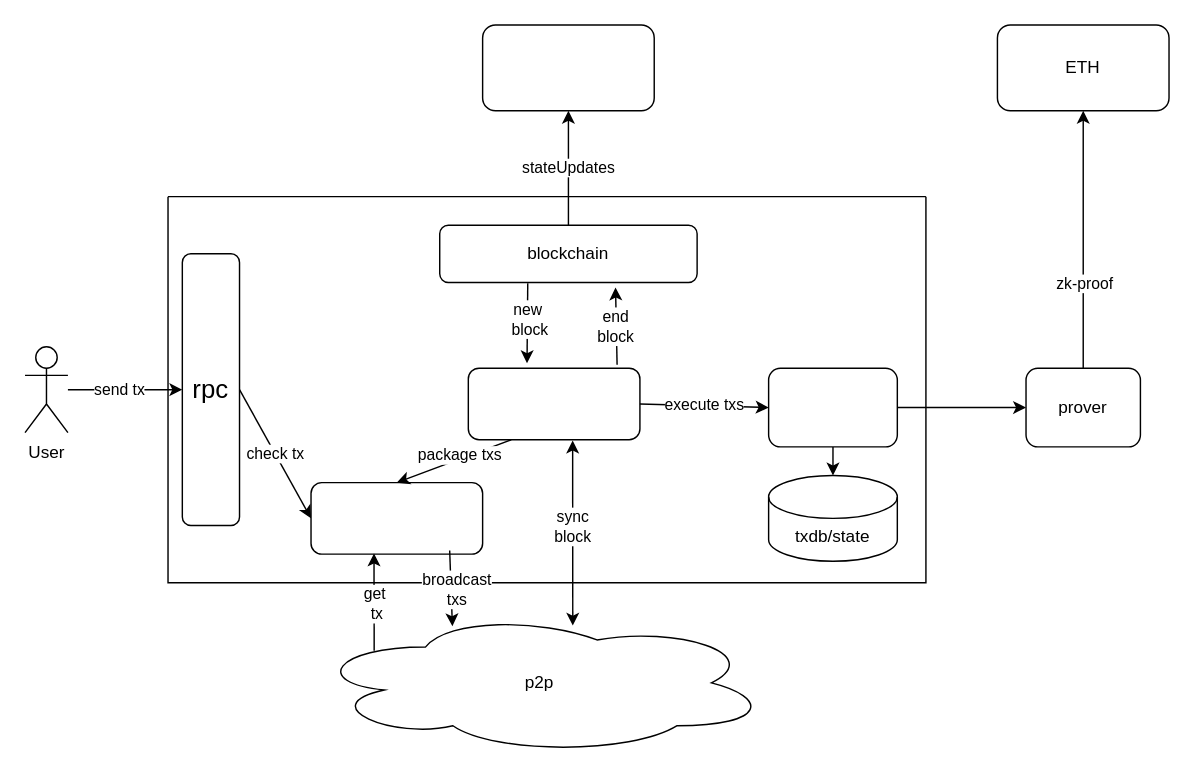
The diagram is 1194 pixels wide and 779 high, and some of its shapes have lost their labels. Here are the shapes that lost their labels. From the top down, the centre of each, then its label:
point (567, 67): ETH（DA）
point (553, 403): consensus
point (832, 407): EVM
point (396, 517): txpool
